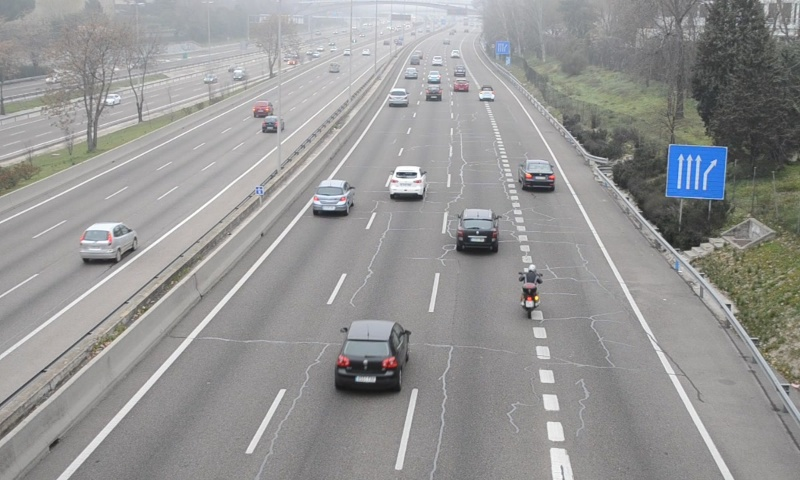car: (335, 320, 410, 391), (456, 208, 498, 251), (313, 179, 354, 214), (388, 166, 424, 196), (520, 159, 556, 188), (388, 87, 409, 108), (478, 84, 494, 102), (426, 84, 442, 102)
motorcycle: (518, 264, 544, 320)
